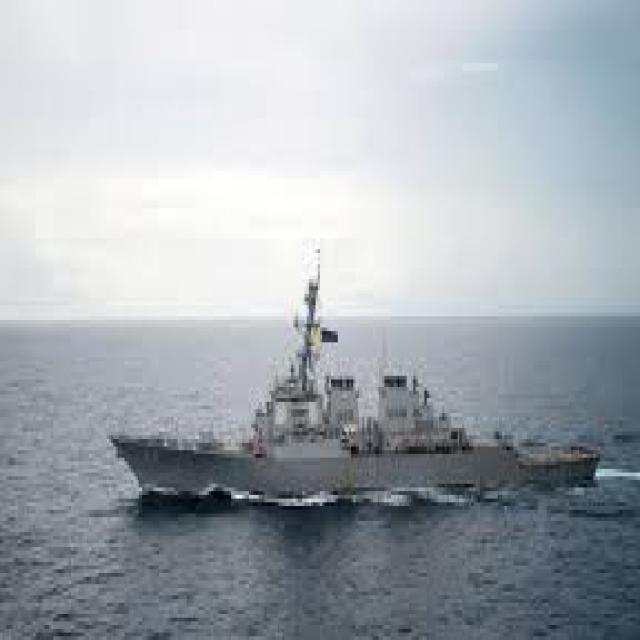navalvessels: (101, 276, 600, 509)
